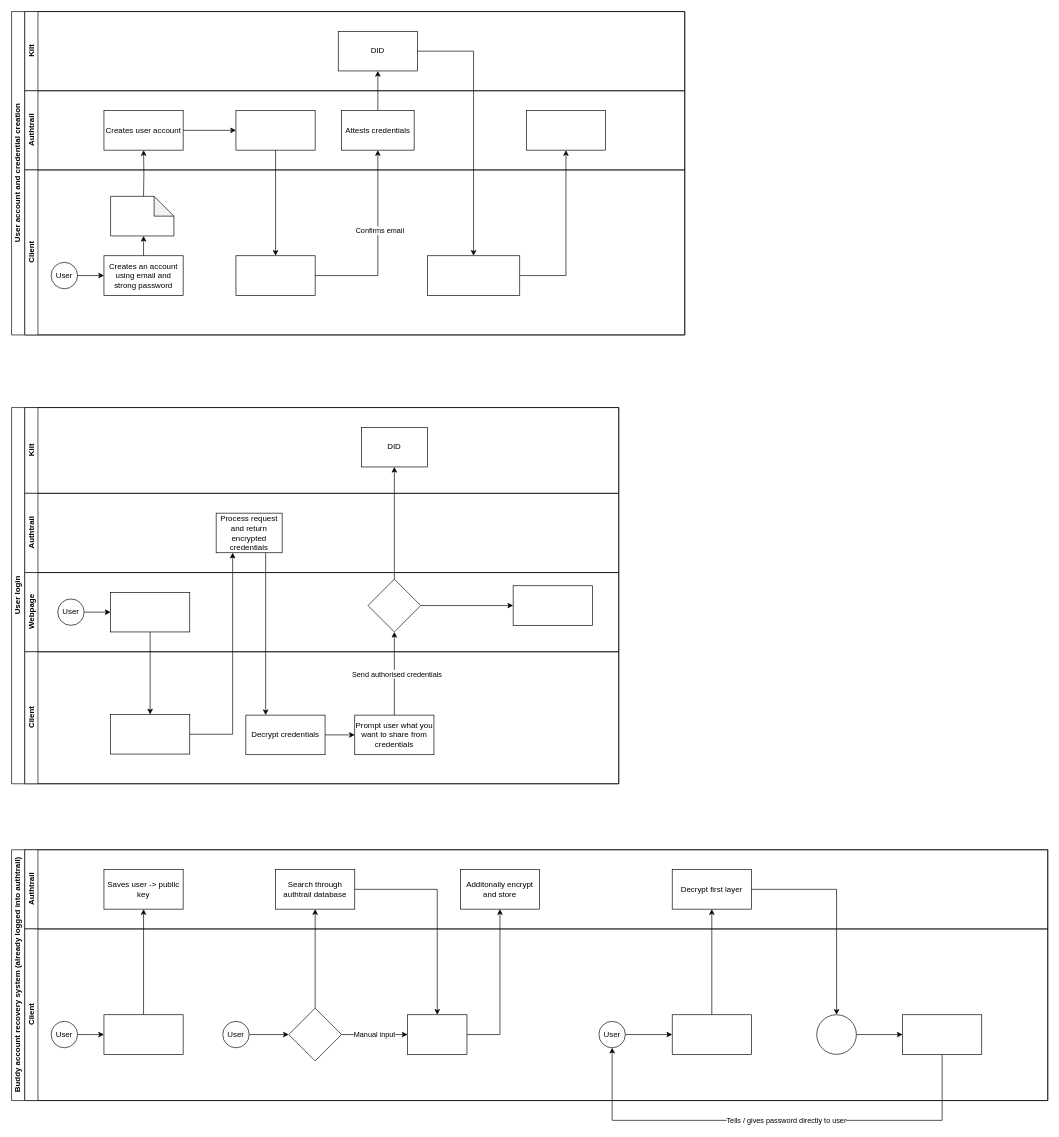
This 1059x1137 diagram has some shape labels left out. Here are the shapes that lost their labels. From the top down, the centre of each, then its label:
At point (275, 130): "Generates email".
At point (566, 130): "Credential storage associated with user".
At point (142, 216): "Hashed password and email".
At point (275, 275): "Receives email".
At point (473, 275): "Symmetric encryption via strong password".
At point (150, 612): "Login via authtrail".
At point (394, 605): "Validate credentails".
At point (552, 605): "Authenticate".
At point (150, 734): "Login into AT vault via email, password and credential request".
At point (143, 1034): "Generate pub / priv key from Strong password".
At point (315, 1034): "Finds buddy public key".
At point (437, 1034): "Encrypt strong password".
At point (711, 1034): "Forget password".
At point (836, 1034): "Buddy user".
At point (942, 1034): "Decrypts via own Strong password generated private key".
